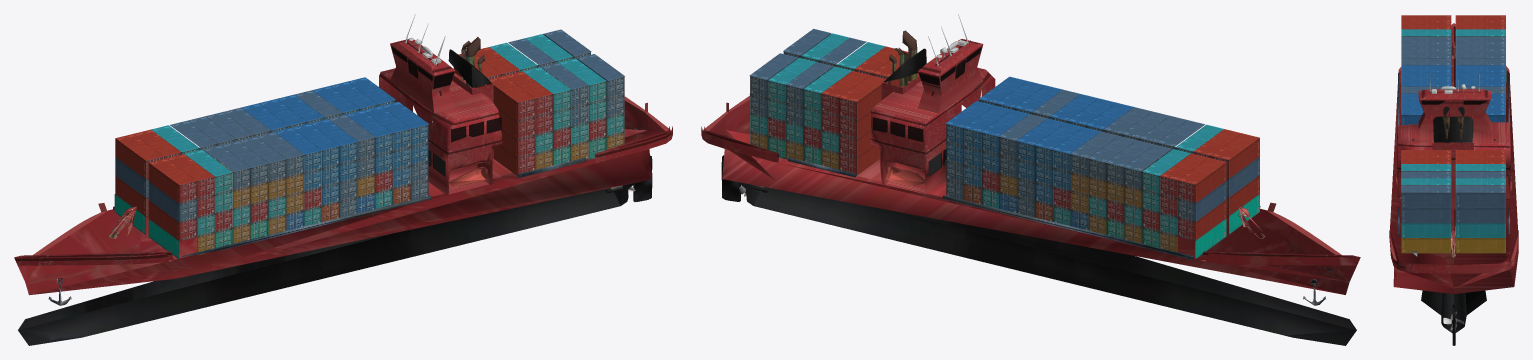
File: cargo_ship.glb
3 views of the same model, side by side, from view 1: azimuth 30°, elevation 25°; view 2: azimuth 150°, elevation 25°; view 3: azimuth 270°, elevation 25° (orthographic). The views are drawn at different scales.
Visible parts, largest first — view 1: Object_14, Object_50, Object_37, Object_44, Object_38, Object_36, Object_40, Object_33, Object_39, Object_45, Object_6, Object_10 (+3 smaller); view 2: Object_14, Object_50, Object_37, Object_44, Object_38, Object_36, Object_40, Object_33, Object_39, Object_45, Object_10, Object_49 (+5 smaller); view 3: Object_14, Object_37, Object_36, Object_38, Object_44, Object_50, Object_40, Object_33, Object_47, Object_6, Object_49, Object_4 (+1 smaller).
Part boxes in pixels (bbox=[...]): Object_14: bbox=[14, 39, 672, 295]; Object_50: bbox=[18, 49, 652, 345]; Object_37: bbox=[115, 29, 624, 222]; Object_44: bbox=[115, 47, 606, 240]; Object_38: bbox=[241, 77, 429, 206]; Object_36: bbox=[151, 34, 624, 236]; Object_40: bbox=[197, 132, 624, 255]; Object_33: bbox=[113, 157, 586, 256]; Object_39: bbox=[215, 137, 606, 247]; Object_45: bbox=[114, 194, 179, 259]; Object_6: bbox=[391, 46, 454, 176]; Object_10: bbox=[451, 117, 501, 142]; Object_14: bbox=[701, 39, 1360, 294]; Object_50: bbox=[721, 48, 1356, 345]; Object_37: bbox=[749, 28, 1259, 221]; Object_44: bbox=[768, 46, 1259, 240]; Object_38: bbox=[945, 76, 1133, 205]; Object_36: bbox=[750, 33, 1223, 236]; Object_40: bbox=[750, 132, 1177, 252]; Object_33: bbox=[788, 157, 1260, 259]; Object_39: bbox=[768, 136, 1159, 247]; Object_45: bbox=[1195, 194, 1259, 258]; Object_10: bbox=[872, 73, 939, 141]; Object_49: bbox=[889, 30, 917, 86]; Object_14: bbox=[1389, 23, 1518, 293]; Object_37: bbox=[1401, 37, 1505, 223]; Object_36: bbox=[1401, 29, 1505, 237]; Object_38: bbox=[1401, 65, 1505, 125]; Object_44: bbox=[1401, 15, 1505, 185]; Object_50: bbox=[1421, 106, 1486, 345]; Object_40: bbox=[1401, 238, 1505, 253]; Object_33: bbox=[1398, 73, 1509, 236]; Object_47: bbox=[1429, 73, 1479, 93]; Object_6: bbox=[1419, 100, 1488, 110]; Object_49: bbox=[1443, 110, 1463, 142]; Object_4: bbox=[1451, 42, 1456, 257].
Bounding box in the file's own units: 110 × 37.49 × 23.65.
27 materials, 23 textured.
